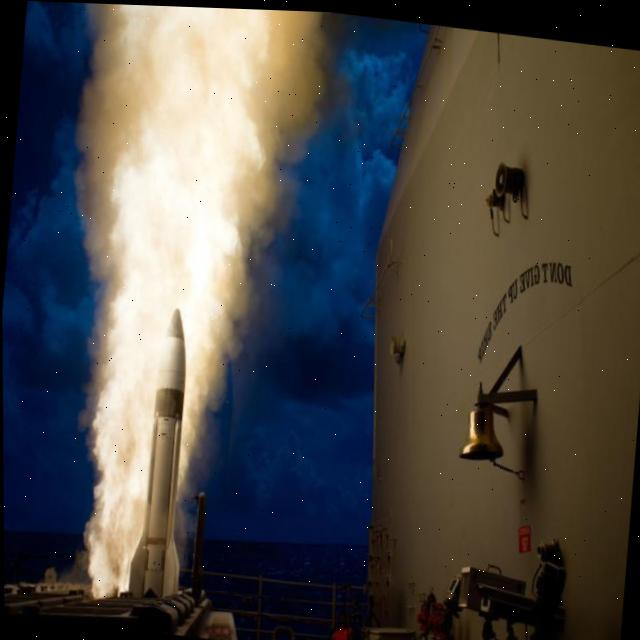missile: (122, 293, 210, 581)
